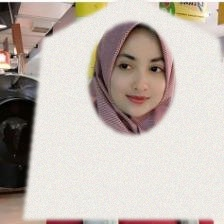Mukena: (22, 0, 224, 218)
